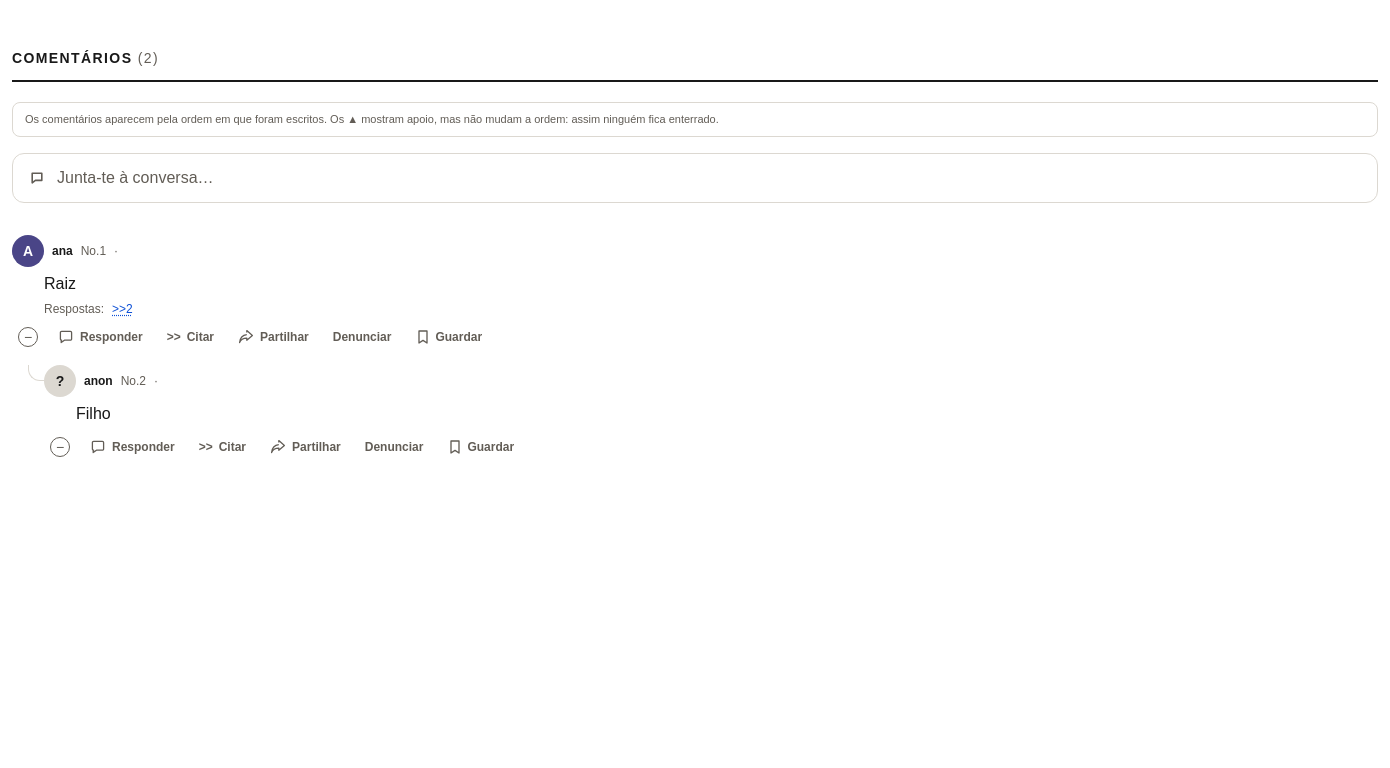
Scenario: comments › with an account › a reply leaves the main box as it was
Click the button "Junta-te à conversa…": (135, 177) top-left (12, 152), bottom-right (1378, 202)
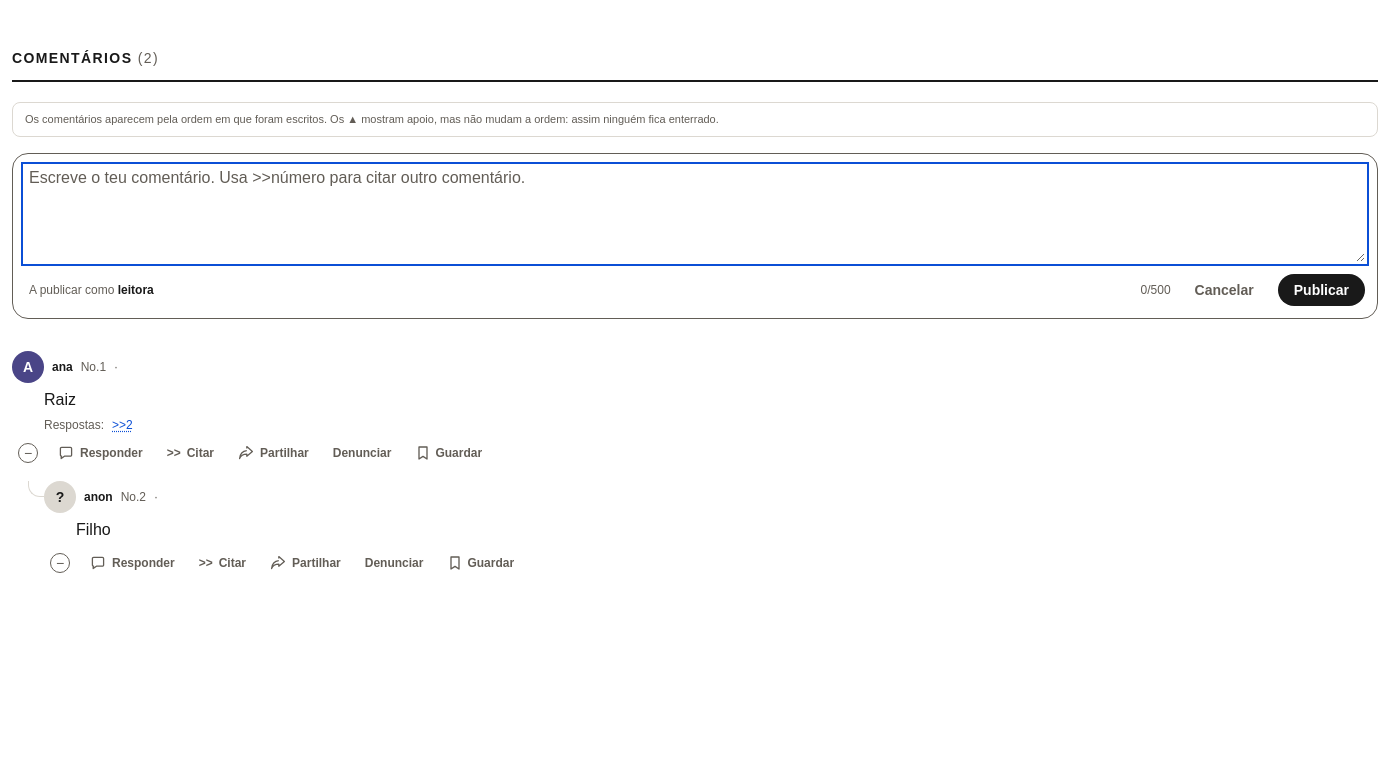
Click the 1st button "Responder": (100, 452) top-left (48, 438), bottom-right (153, 466)
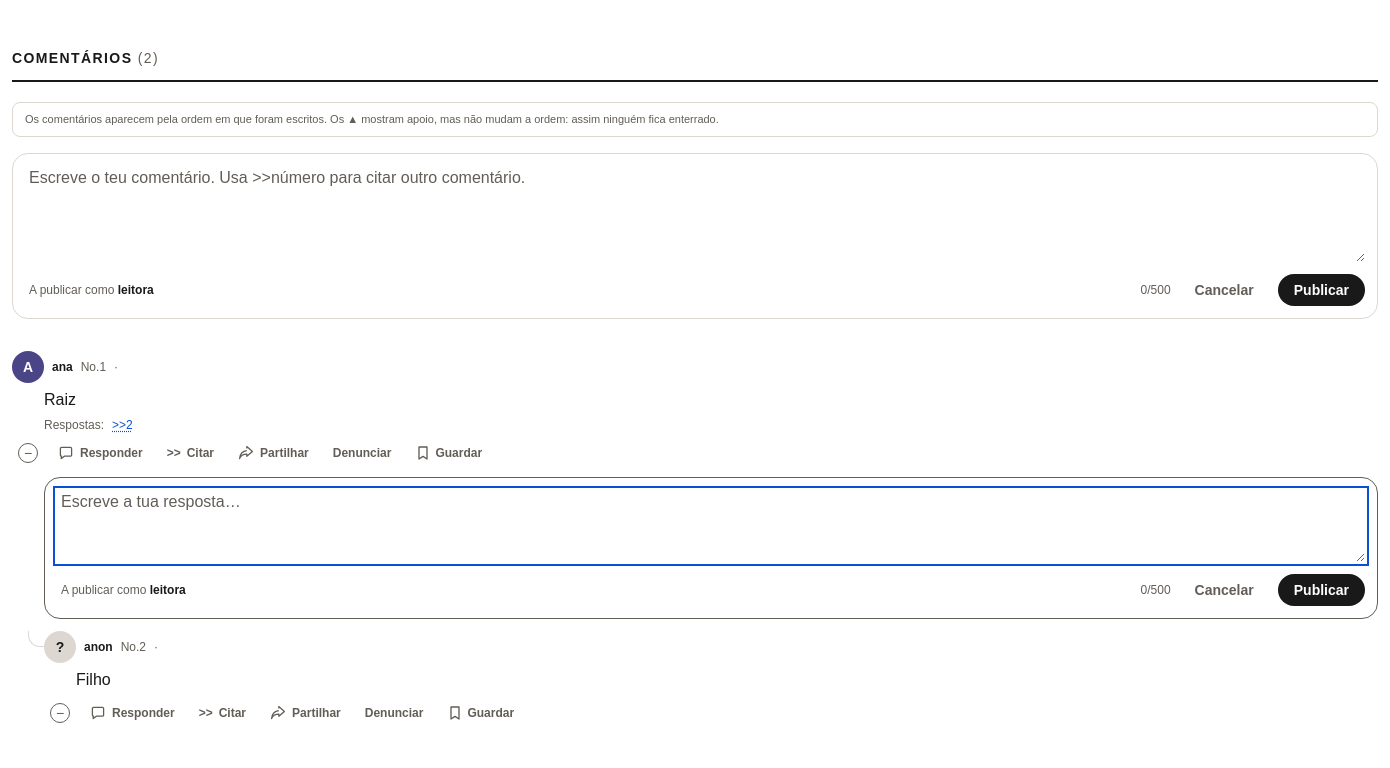
In the text box labelled "comentário": (695, 214) top-left (25, 166), bottom-right (1365, 262), type "Principal"
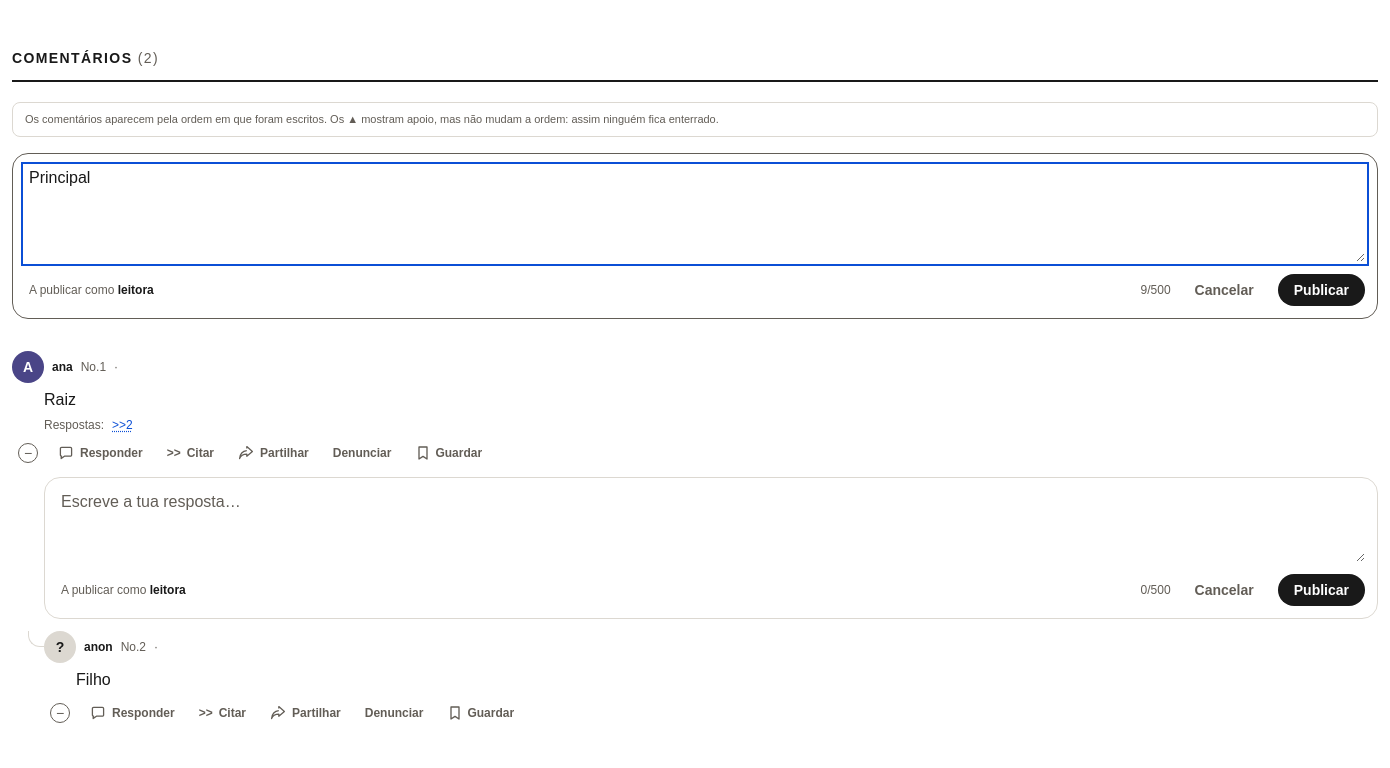
In the text box labelled "resposta": (711, 526) top-left (57, 490), bottom-right (1365, 562), type "Resposta nova"
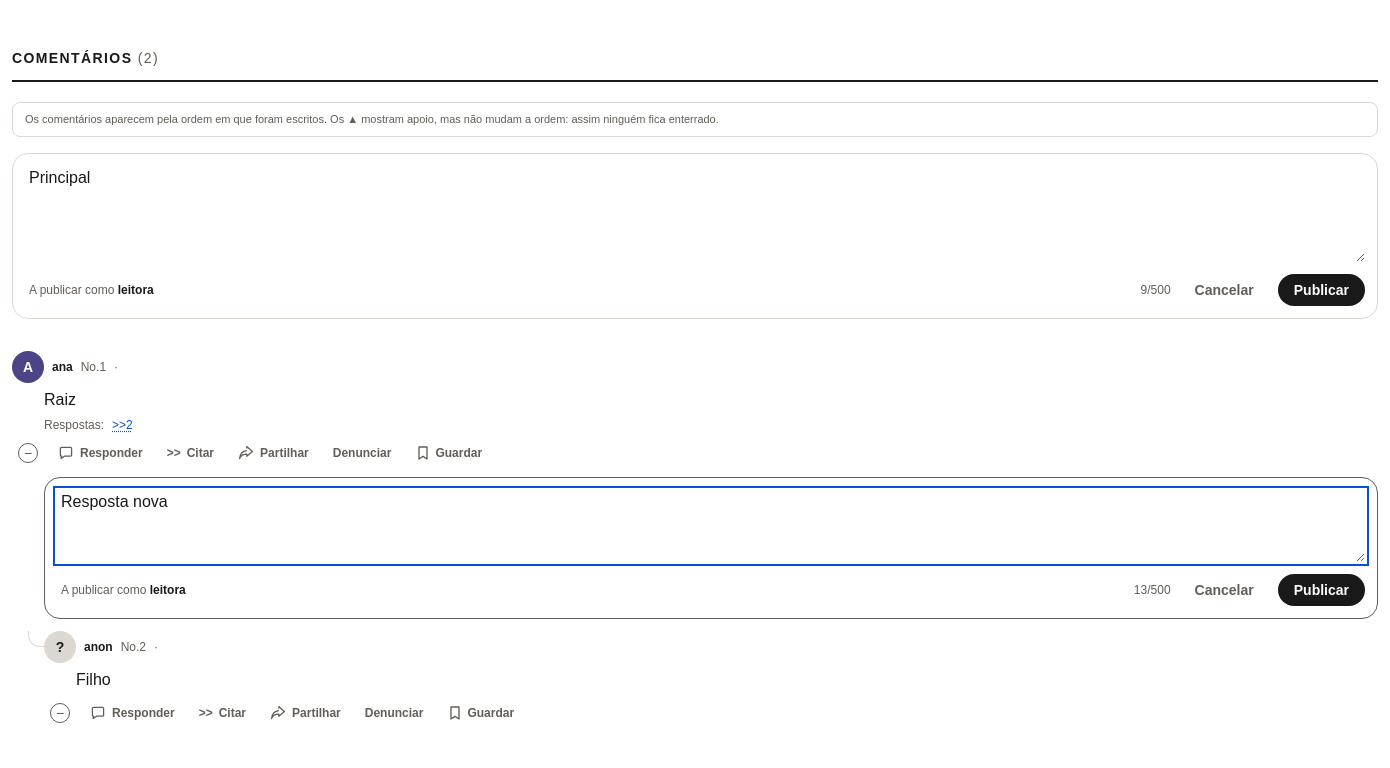
Click the button "Publicar" in the row of "13": (1321, 590) top-left (1278, 574), bottom-right (1365, 606)
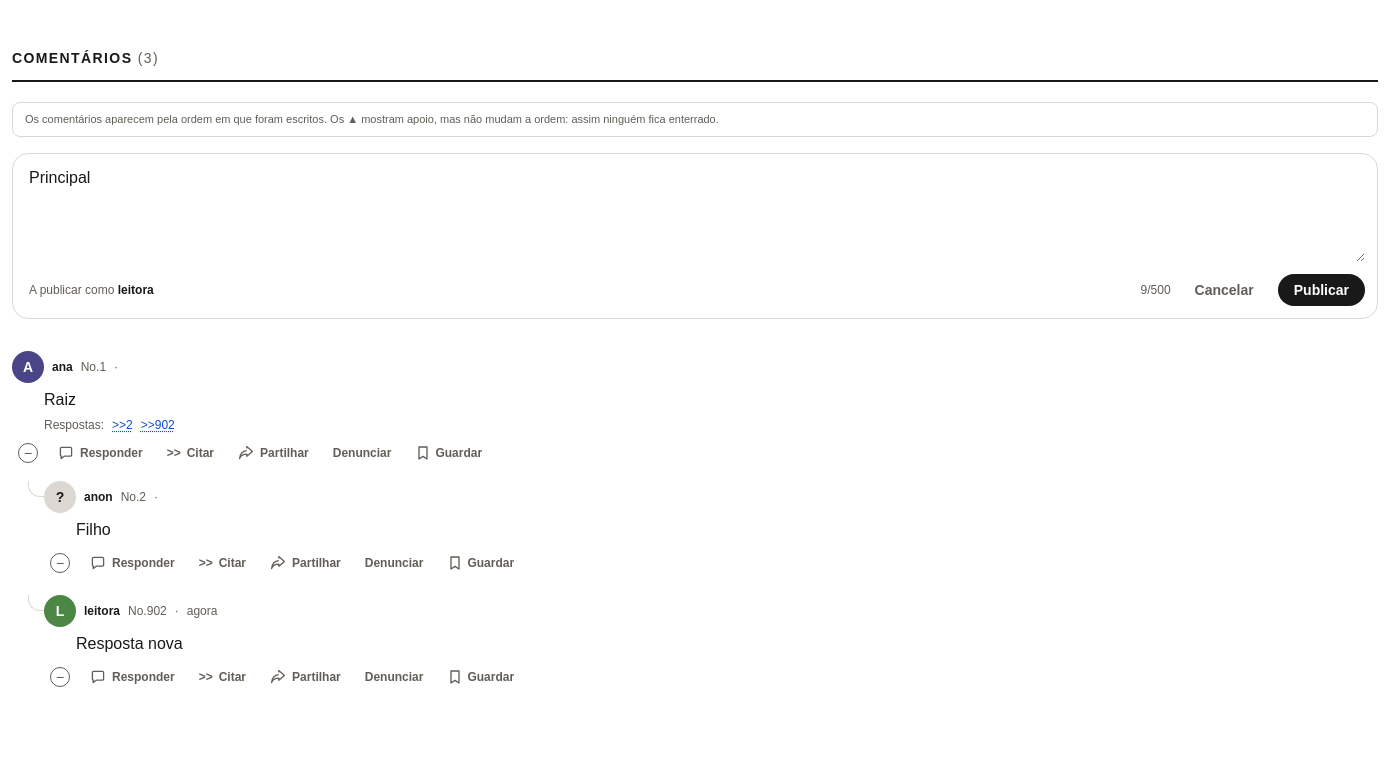
Expected: the text "Resposta nova" is shown, top-left (76, 634), bottom-right (183, 652)
